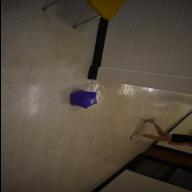cube: (68, 90, 96, 108)
